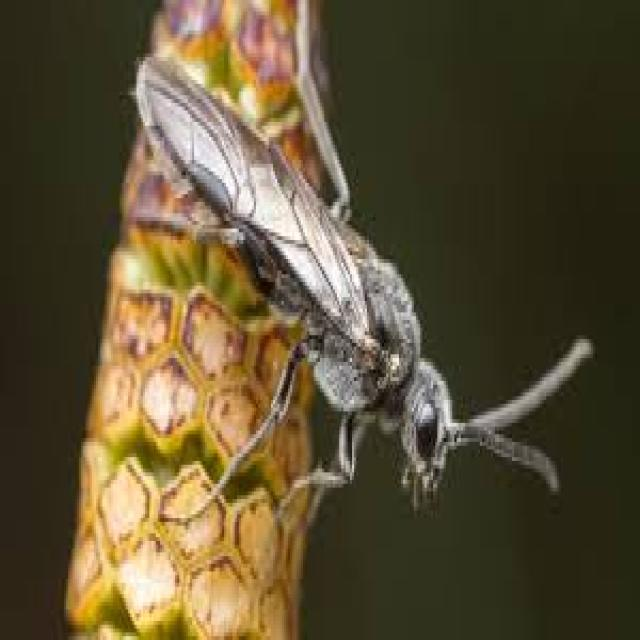Saw Fly: (129, 45, 601, 551)
